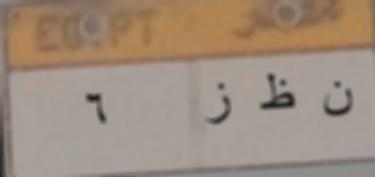6: (81, 88, 111, 133)
Thaa: (255, 69, 297, 118)
noon: (316, 74, 357, 126)
zay: (200, 78, 236, 133)
